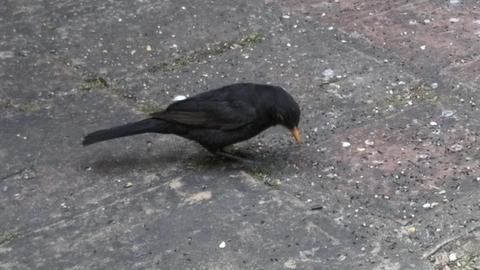blackbird: (82, 82, 302, 168)
